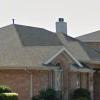Chimney: (53, 12, 72, 41)
